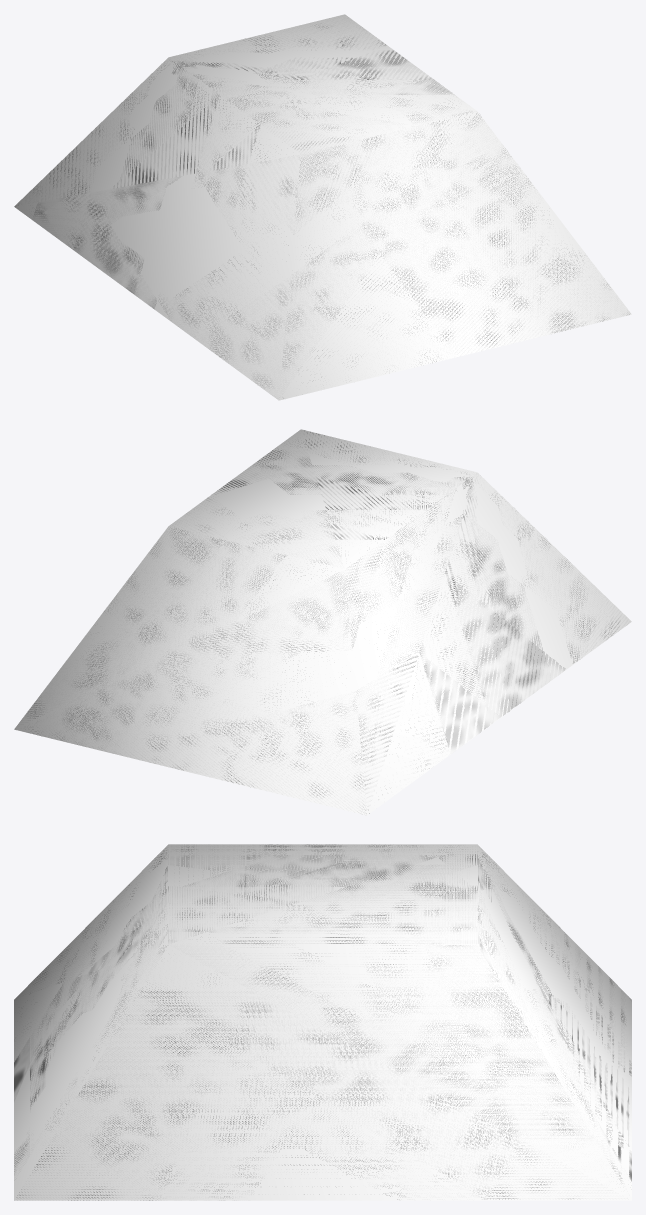
The model's file is original-19.obj.
3 views of the same model, one above another, from view 1: azimuth 30°, elevation 25°; view 2: azimuth 150°, elevation 25°; view 3: azimuth 270°, elevation 25° (orthographic). The views are drawn at different scales.
Visible parts, largest first — view 1: Component_5_14/Component_5/mesh4/mesh4-geometry#mesh4-geometry; view 2: Component_5_14/Component_5/mesh4/mesh4-geometry#mesh4-geometry; view 3: Component_5_14/Component_5/mesh4/mesh4-geometry#mesh4-geometry.
Part boxes in pixels (<box>): Component_5_14/Component_5/mesh4/mesh4-geometry#mesh4-geometry: <box>14,14,631,400</box>; Component_5_14/Component_5/mesh4/mesh4-geometry#mesh4-geometry: <box>14,429,631,815</box>; Component_5_14/Component_5/mesh4/mesh4-geometry#mesh4-geometry: <box>14,844,631,1200</box>.
Size of the model in its own units: 0.0787 by 0.0376 by 0.1023.
